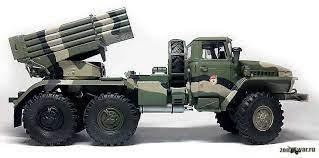rszo: (4, 5, 309, 155)
